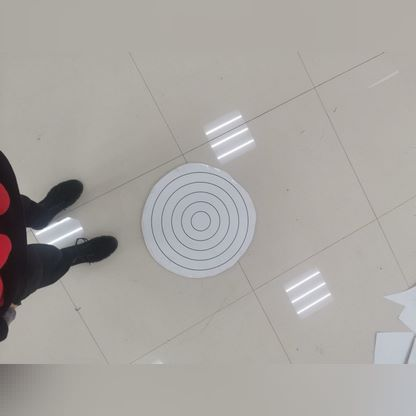circle: (148, 168, 245, 267)
